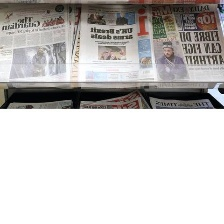news_paper: (72, 0, 150, 83), (148, 0, 224, 83), (0, 1, 75, 82), (75, 88, 151, 109), (148, 95, 215, 110), (5, 97, 74, 110)
